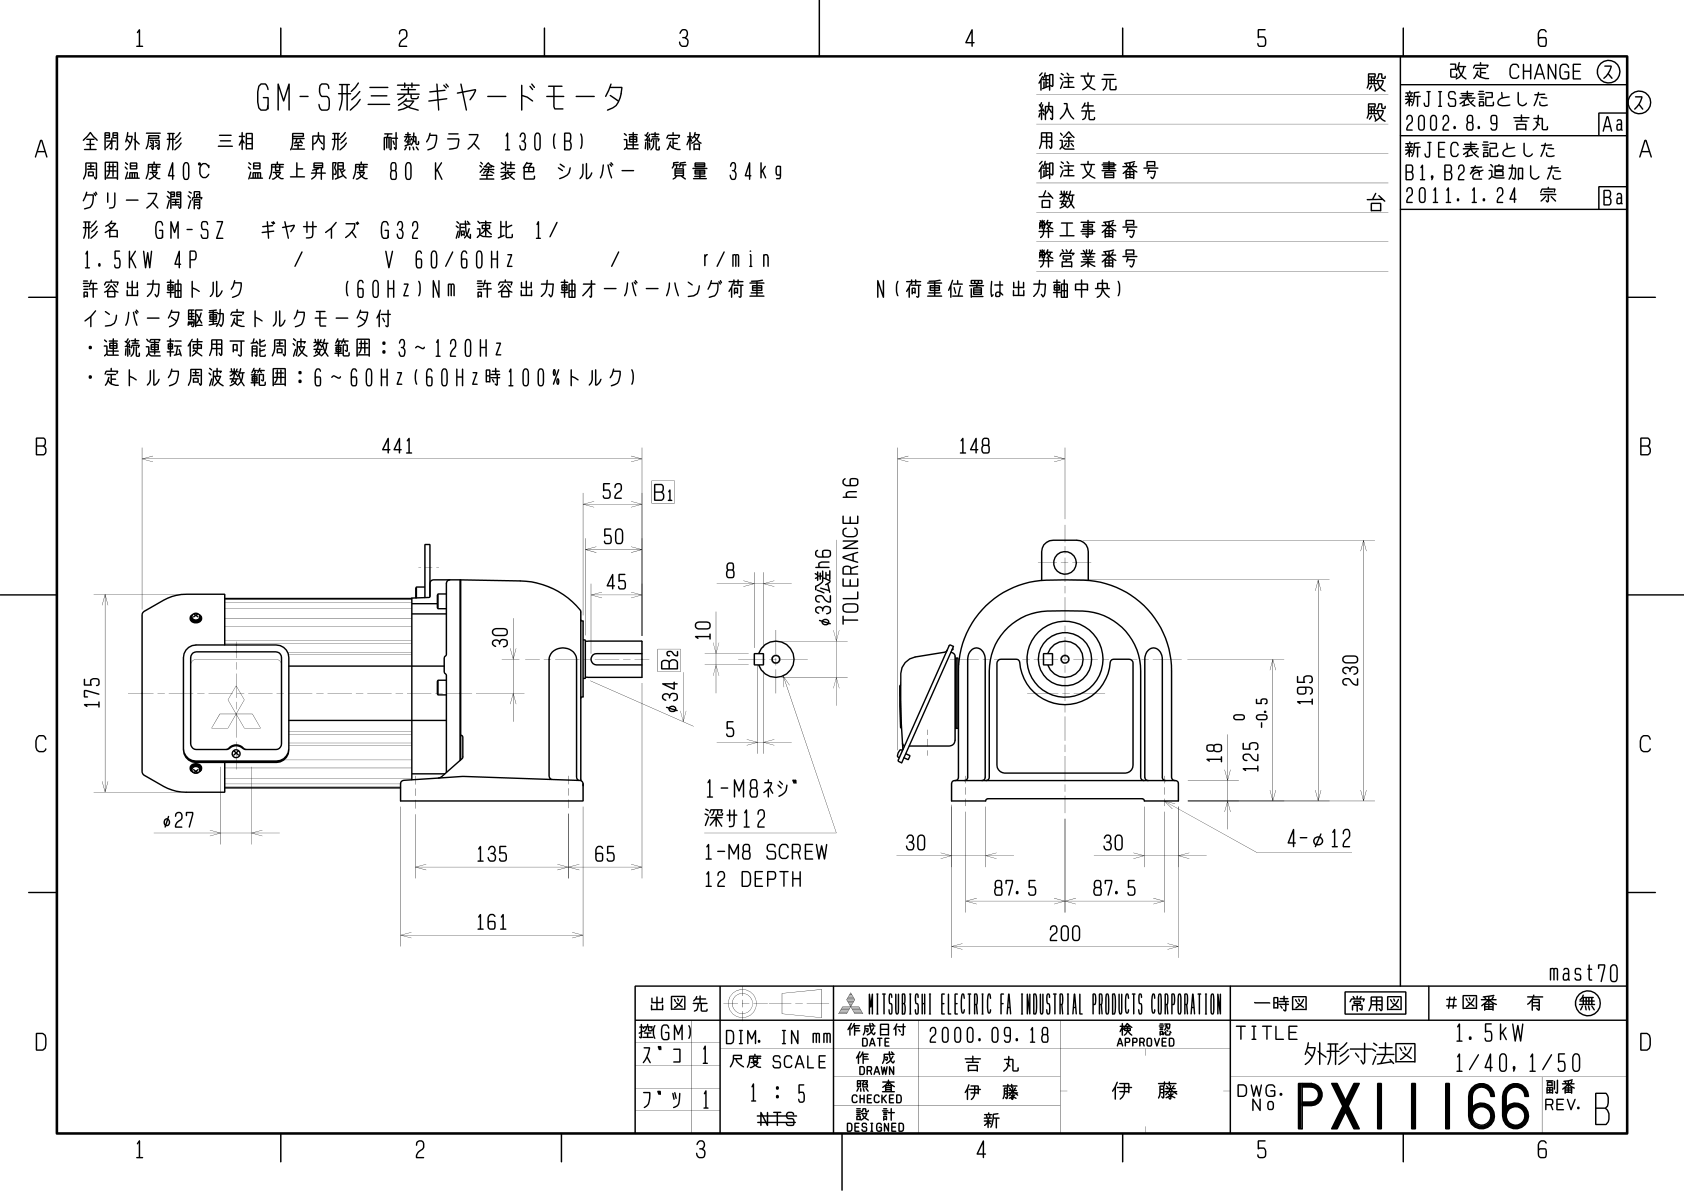GM_S_インバタ屋内＿三相_脚: (4, 10, 1684, 1191)
